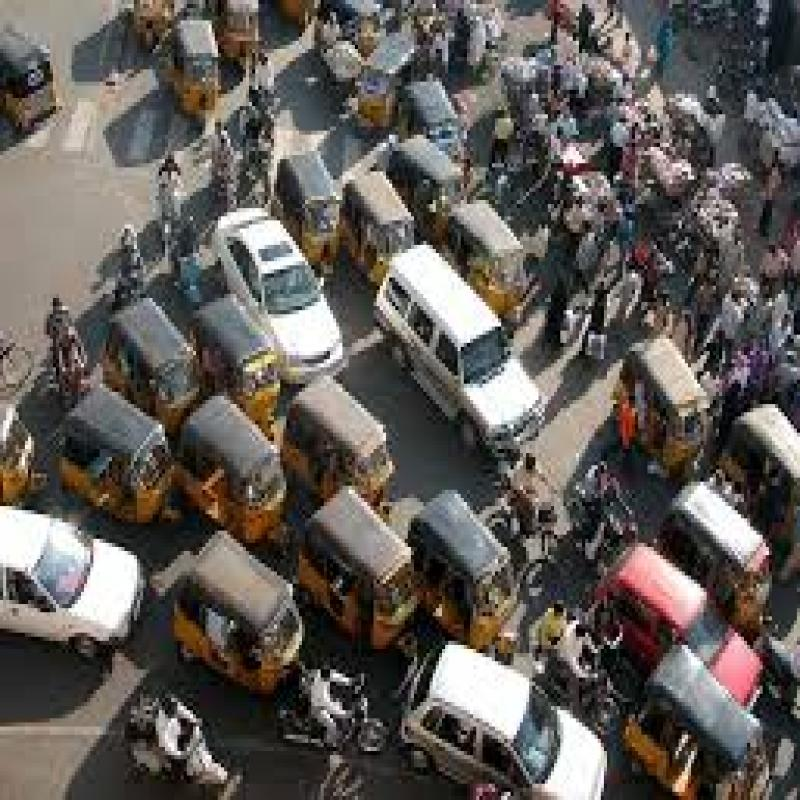car: (372, 236, 538, 458)
